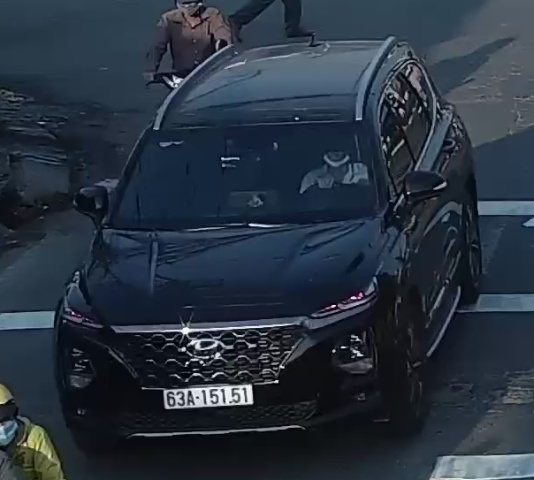vehicle plate: (159, 381, 259, 411)
